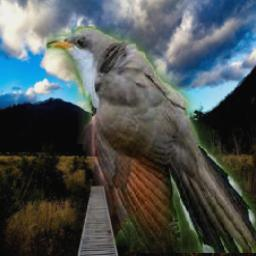Cuckoo: (48, 27, 256, 254)
